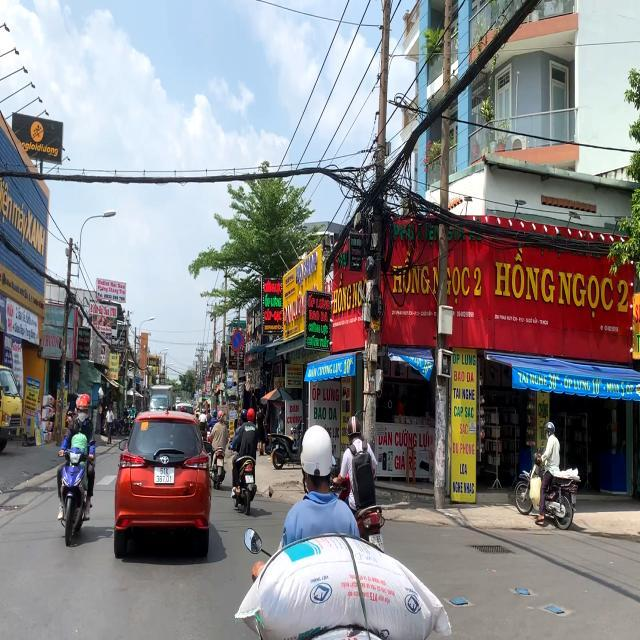P-131a: (232, 329, 244, 351)
R-434: (227, 370, 234, 387)
